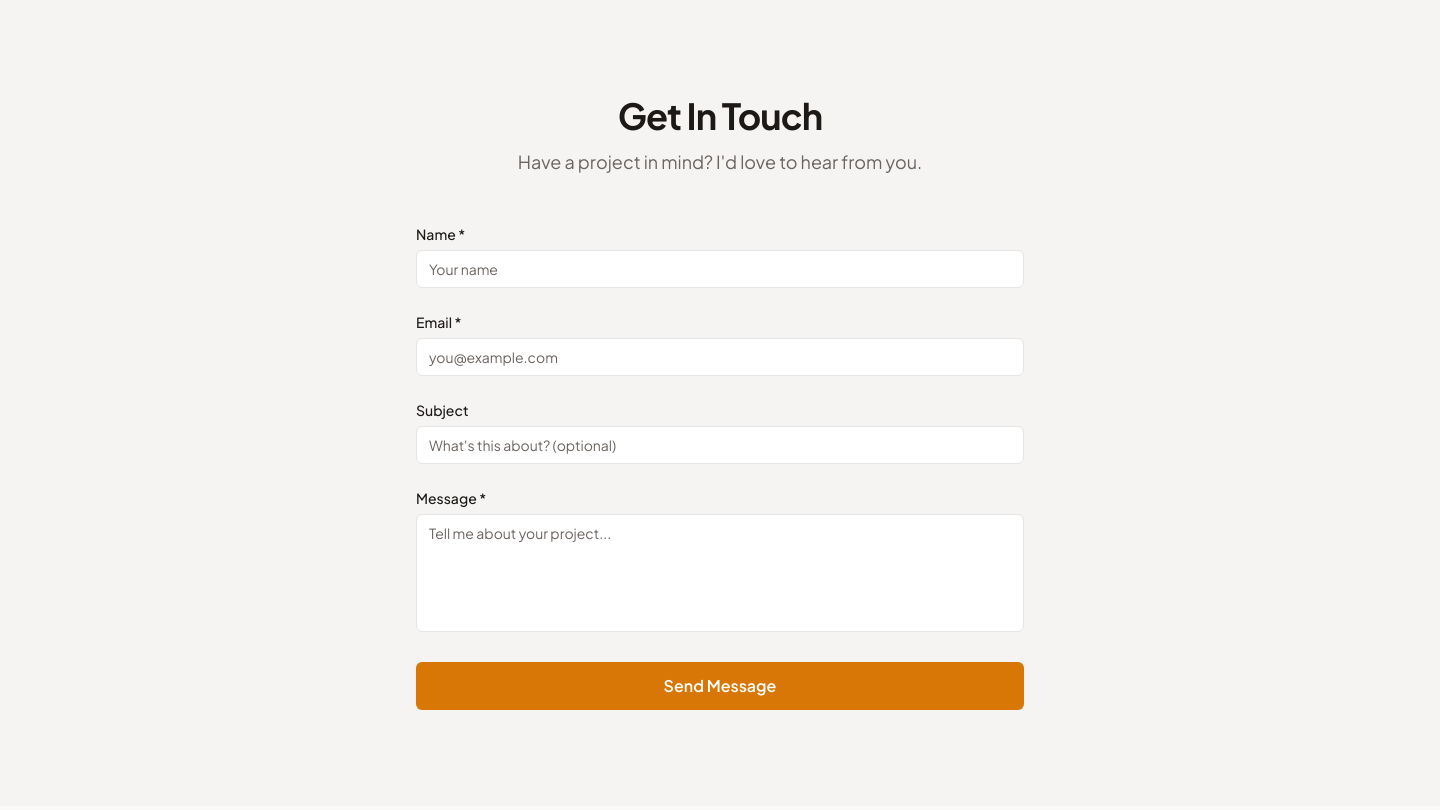
Test: ContactSection › clears the form inputs after a successful submission
Type "Jane" into the field labelled "Name" at (720, 269), box [416,250,1024,288]
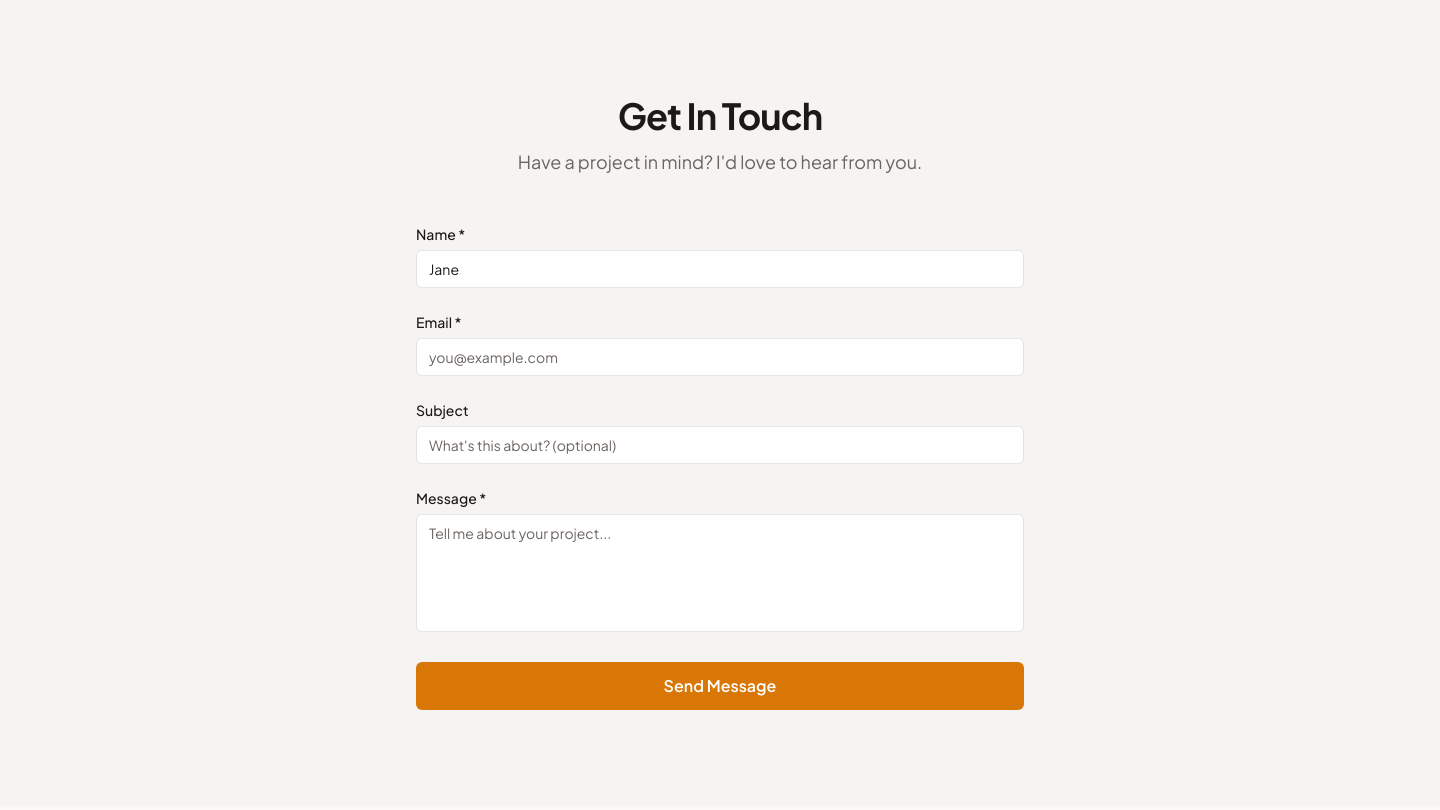
Submit the form labelled "Name", box [416,224,1024,710]
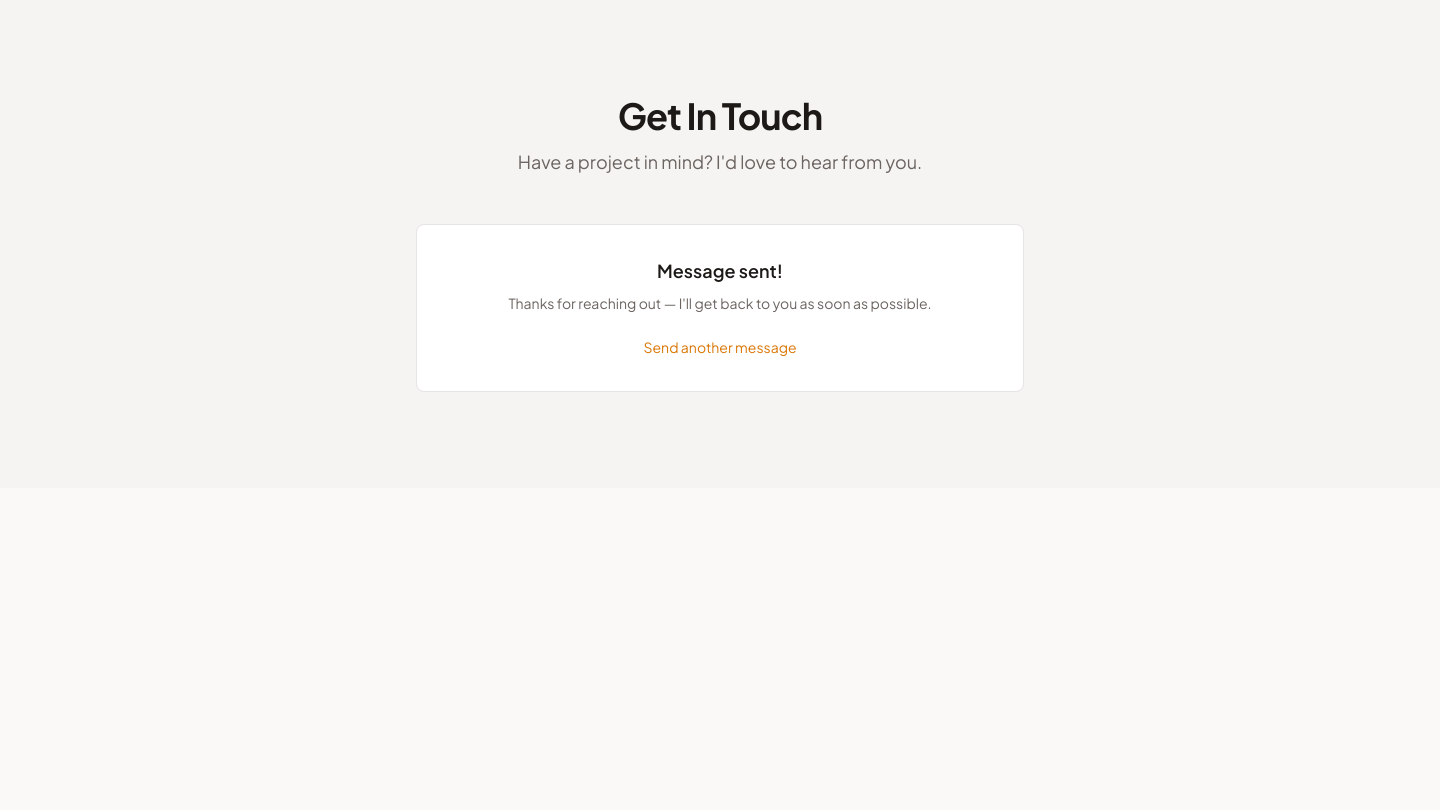
Result: the text "Message sent!" is shown at [657,259,783,282]
Result: the label labelled "Name" is gone
